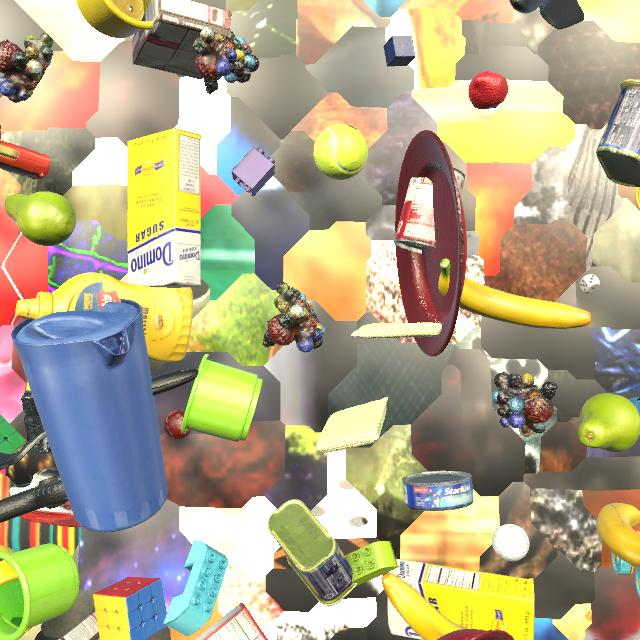ycb_003_cracker_box: (594, 639, 600, 640)
ycb_004_sugar_box: (387, 559, 534, 640), (127, 128, 201, 288)
ycb_005_tomato_soup_can: (394, 167, 465, 254)
ycb_006_mustard_bottle: (16, 272, 193, 362)
ycb_007_tuna_fish_can: (402, 470, 474, 511)
ycb_008_pudding_box: (132, 0, 232, 80), (58, 611, 100, 640)
ycb_009_gelatin_box: (194, 602, 268, 640)
ycb_010_potted_meat_can: (268, 499, 357, 606), (596, 79, 640, 187)
ycb_011_banana: (438, 259, 591, 329), (382, 573, 467, 640), (596, 503, 640, 567)
ycb_012_strawberry: (468, 71, 508, 110)
ycb_016_pear: (4, 191, 76, 246), (578, 393, 640, 452)
